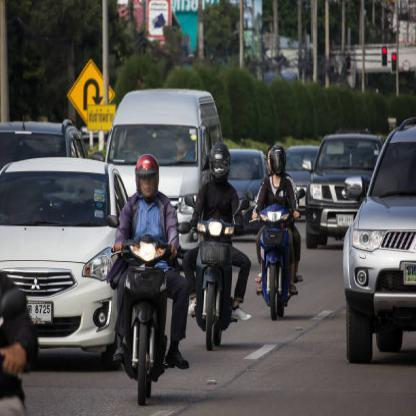Motorcycle: (113, 231, 167, 409), (187, 202, 238, 344), (256, 192, 295, 321)
